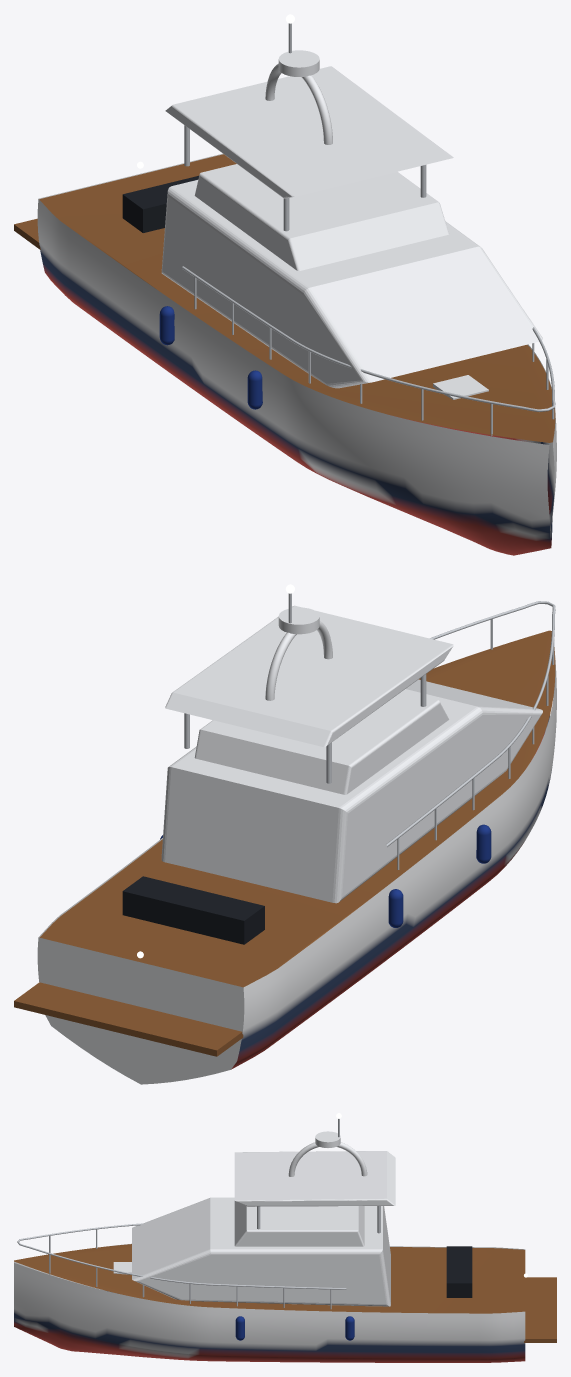
The model's file is yacht.glb.
3 renders of one model, top to bottom at view 1: azimuth 30°, elevation 25°; view 2: azimuth 150°, elevation 25°; view 3: azimuth 270°, elevation 25°, orthographic. The views are drawn at different scales.
Visible parts, largest first — view 1: gelcoat_hull_0, gelcoat_white_3, teak_1, gelcoat_white_15, gelcoat_white_13, upholstery_dark_38, steel_23, gelcoat_white_20, gelcoat_white_21, gelcoat_white_39; view 2: gelcoat_hull_0, gelcoat_white_3, teak_1, gelcoat_white_15, gelcoat_white_13, teak_2, upholstery_dark_38, steel_23, gelcoat_white_20, gelcoat_white_21; view 3: gelcoat_hull_0, gelcoat_white_3, teak_1, gelcoat_white_15, gelcoat_white_13, teak_2, upholstery_dark_38, steel_23, gelcoat_white_20, gelcoat_white_21.
Part boxes in pixels (left/top/right/bottom): gelcoat_hull_0: left=37, top=153, right=556, bottom=555; gelcoat_white_3: left=161, top=180, right=542, bottom=388; teak_1: left=39, top=154, right=555, bottom=442; gelcoat_white_15: left=165, top=66, right=453, bottom=198; gelcoat_white_13: left=194, top=164, right=449, bottom=270; upholstery_dark_38: left=122, top=175, right=198, bottom=232; steel_23: left=182, top=266, right=555, bottom=411; gelcoat_white_20: left=265, top=63, right=332, bottom=144; gelcoat_white_21: left=278, top=50, right=319, bottom=76; gelcoat_white_39: left=433, top=375, right=488, bottom=399; gelcoat_hull_0: left=37, top=655, right=556, bottom=1084; gelcoat_white_3: left=161, top=679, right=542, bottom=903; teak_1: left=40, top=630, right=555, bottom=987; gelcoat_white_15: left=165, top=605, right=453, bottom=747; gelcoat_white_13: left=194, top=691, right=449, bottom=794; teak_2: left=14, top=982, right=243, bottom=1056; upholstery_dark_38: left=122, top=876, right=264, bottom=944; steel_23: left=386, top=601, right=555, bottom=846; gelcoat_white_20: left=265, top=621, right=332, bottom=700; gelcoat_white_21: left=278, top=607, right=319, bottom=634; gelcoat_hull_0: left=14, top=1243, right=525, bottom=1362; gelcoat_white_3: left=132, top=1197, right=390, bottom=1306; teak_1: left=14, top=1244, right=525, bottom=1313; gelcoat_white_15: left=234, top=1151, right=395, bottom=1206; gelcoat_white_13: left=234, top=1201, right=364, bottom=1246; teak_2: left=524, top=1277, right=556, bottom=1342; upholstery_dark_38: left=446, top=1246, right=472, bottom=1297; steel_23: left=17, top=1223, right=346, bottom=1289; gelcoat_white_20: left=288, top=1142, right=367, bottom=1176; gelcoat_white_21: left=315, top=1131, right=340, bottom=1147.
Size of the model in its own units: 4.76 by 7.35 by 14.87.
